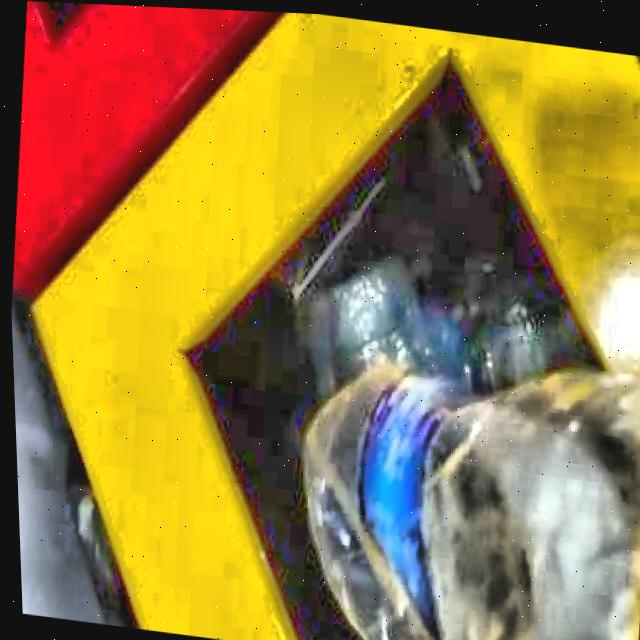plastic: (306, 363, 640, 640)
